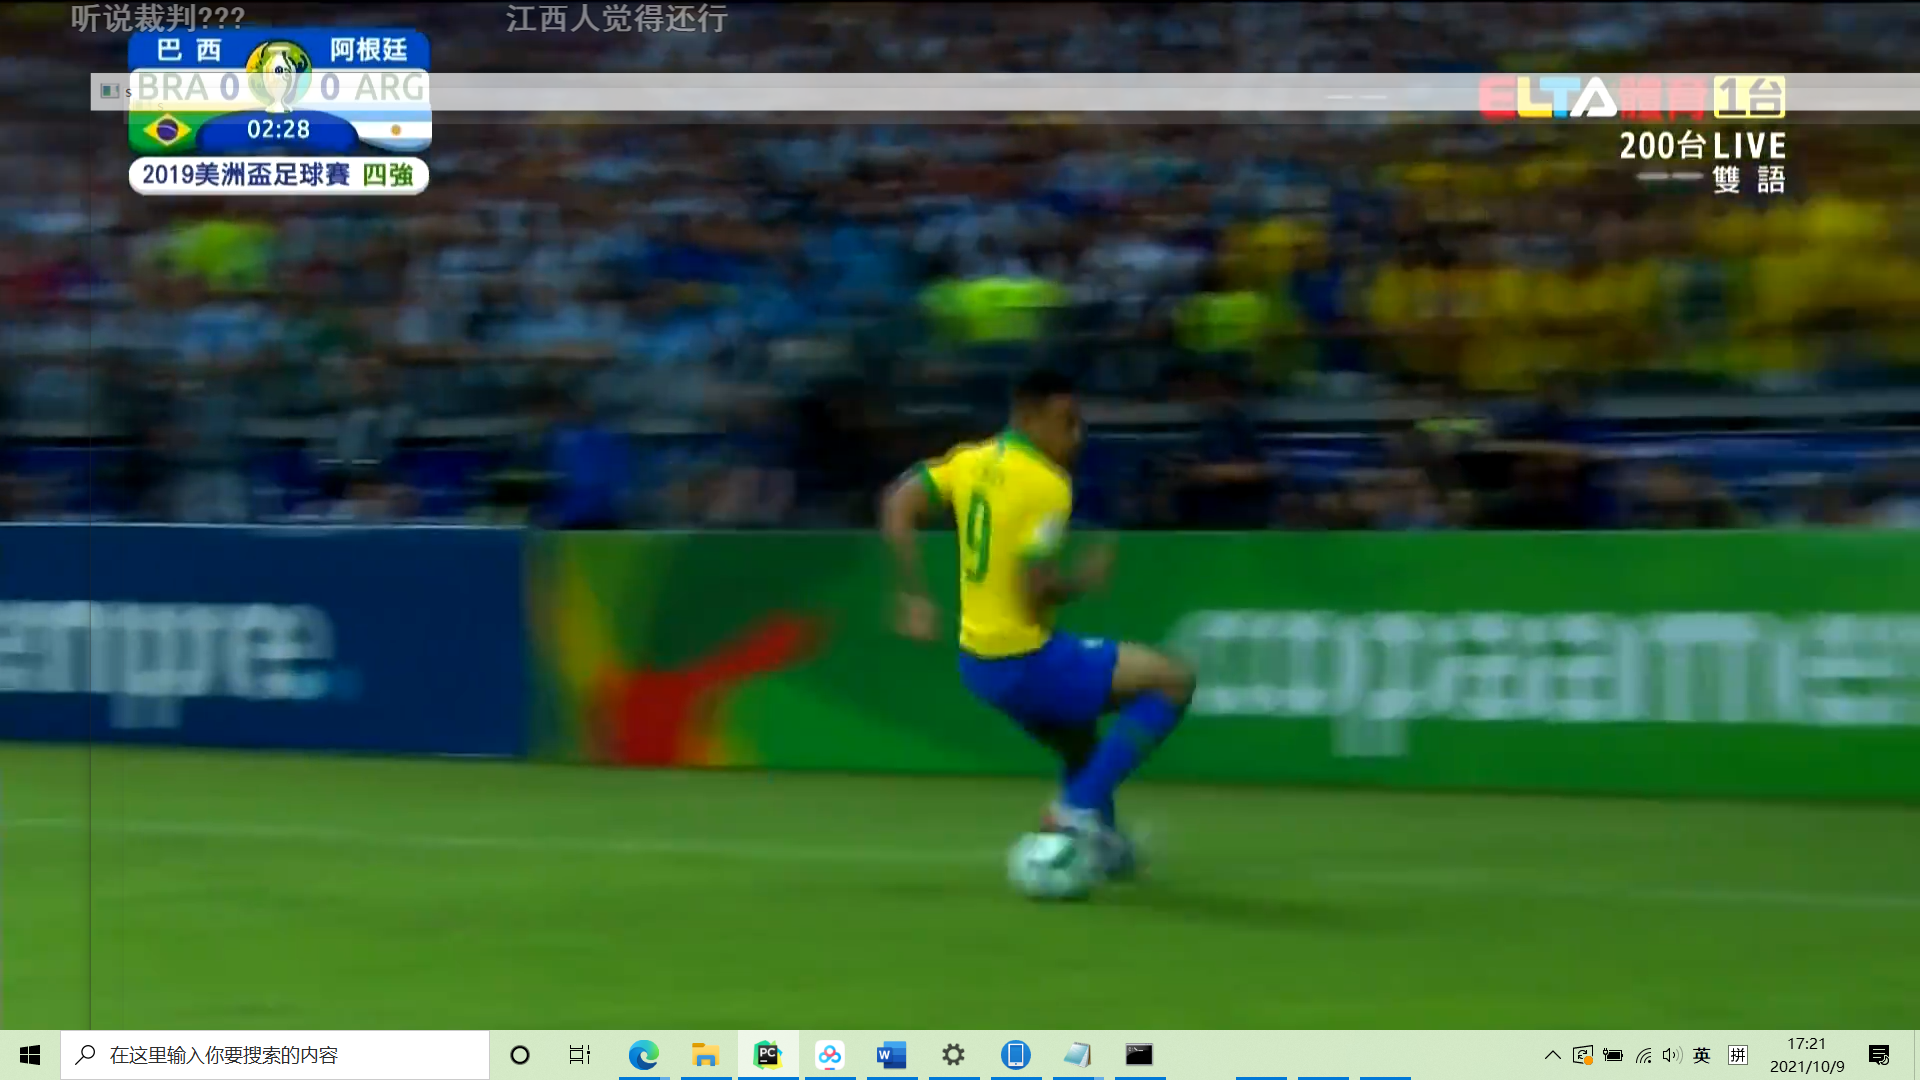ft: (1000, 825, 1095, 910)
